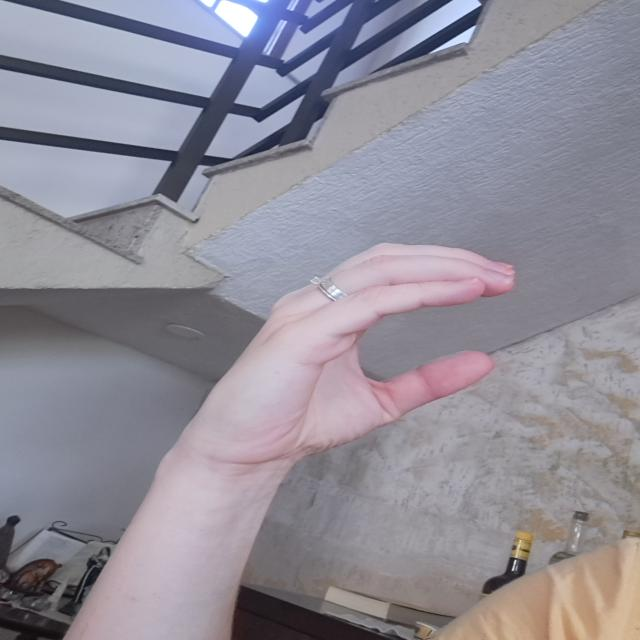C: (199, 225, 520, 459)
